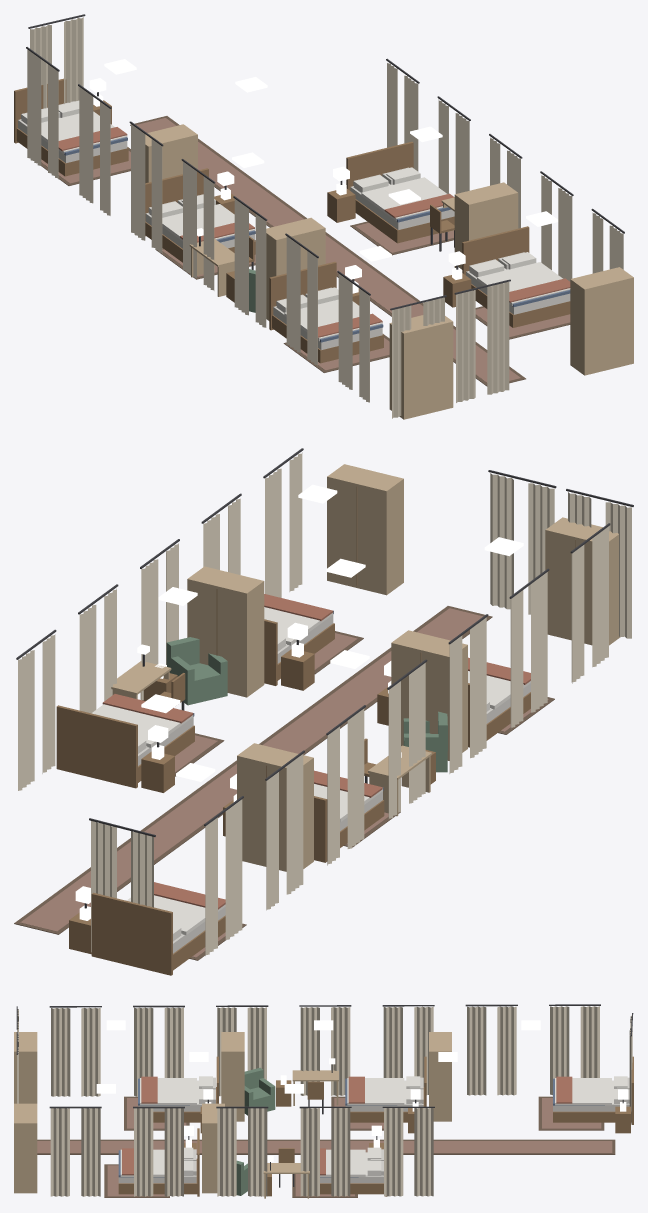
The model's file is fine-s1.glb.
3 renders of one model, top to bottom at view 1: azimuth 30°, elevation 25°; view 2: azimuth 150°, elevation 25°; view 3: azimuth 270°, elevation 25°, orthographic. The views are drawn at different scales.
Visible parts, largest first — view 1: soft-s1, dresser.001, dresser.004, bed-frame.000, bed-frame.001, dresser.000, bed-frame.004, dresser.003, bed-frame.002, dresser.002, bed-frame.003, writing-desk.001 (+3 smaller); view 2: soft-s1, dresser.001, dresser.000, bed-frame.002, bed-frame.000, dresser.002, dresser.004, dresser.003, lounge-chair.000, bed-frame.001, bed-frame.003, writing-desk.000 (+6 smaller); view 3: soft-s1, dresser.001, dresser.003, dresser.002, dresser.004, bed-frame.002, dresser.000, bed-frame.001, bed-frame.003, lounge-chair.001, bed-frame.000, bed-frame.004 (+7 smaller).
Part boxes in pixels (x1,y1,x2,y2): soft-s1: (21, 14, 624, 418); dresser.001: (570, 267, 633, 375); dresser.004: (389, 315, 453, 419); bed-frame.000: (346, 141, 454, 243); bed-frame.001: (462, 226, 570, 327); dresser.000: (454, 182, 518, 269); bed-frame.004: (269, 261, 383, 363); dresser.003: (266, 217, 325, 320); bed-frame.002: (14, 78, 128, 176); dresser.002: (145, 124, 197, 183); bed-frame.003: (145, 168, 255, 262); writing-desk.001: (189, 228, 234, 296); soft-s1: (14, 448, 633, 960); dresser.001: (327, 464, 403, 595); dresser.000: (187, 566, 264, 697); bed-frame.002: (91, 892, 225, 975); bed-frame.000: (56, 705, 194, 788); dresser.002: (237, 743, 313, 871); dresser.004: (545, 517, 620, 645); dresser.003: (391, 630, 467, 760); lounge-chair.000: (166, 637, 227, 705); bed-frame.001: (264, 610, 334, 685); bed-frame.003: (314, 787, 384, 862); writing-desk.000: (111, 644, 171, 700); soft-s1: (16, 1004, 633, 1197); dresser.001: (14, 1103, 37, 1193); dresser.003: (221, 1032, 244, 1121); dresser.002: (429, 1032, 451, 1121); dresser.004: (14, 1032, 37, 1103); bed-frame.002: (553, 1056, 633, 1124); dresser.000: (202, 1103, 224, 1193); bed-frame.001: (118, 1128, 199, 1196); bed-frame.003: (345, 1056, 426, 1122); lounge-chair.001: (244, 1067, 275, 1115); bed-frame.000: (320, 1149, 387, 1196); bed-frame.004: (138, 1056, 218, 1122).
Size of the model in its own units: 6.34 by 2.62 by 16.06.
